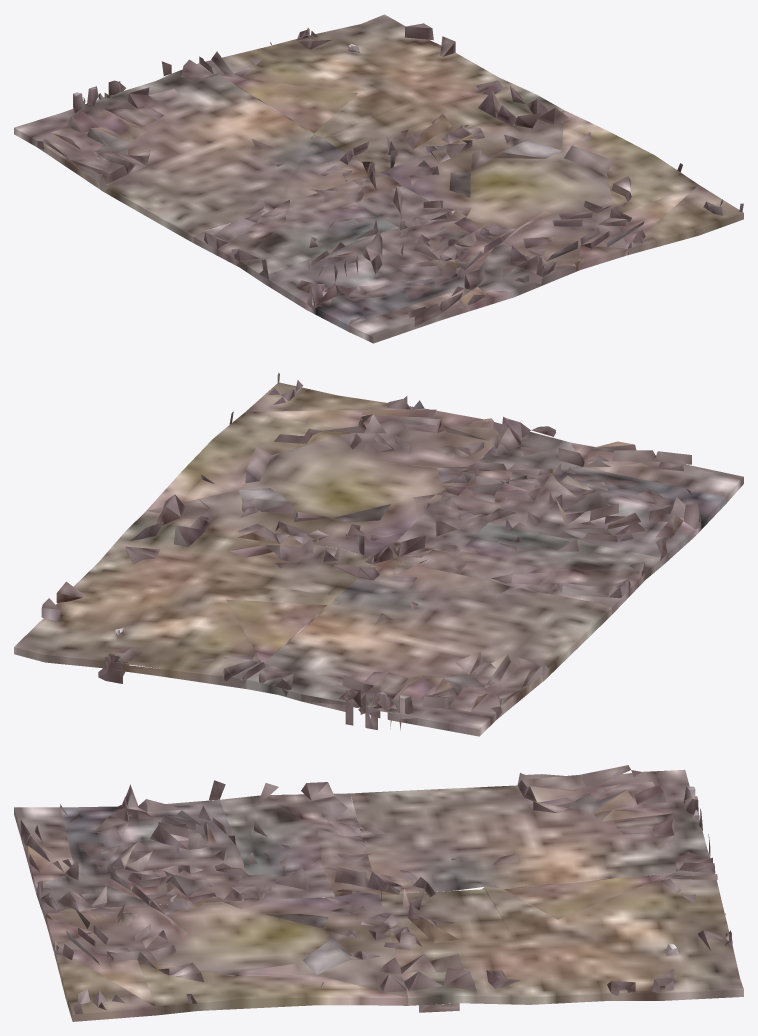
3 renders of one model, top to bottom at view 1: azimuth 30°, elevation 25°; view 2: azimuth 150°, elevation 25°; view 3: azimuth 270°, elevation 25°, orthographic. The views are drawn at different scales.
Visible parts, largest first — view 1: Mesh_0; view 2: Mesh_0; view 3: Mesh_0.
Boxes of the visible parts, x1,y1,x2,y2 form: Mesh_0: (14, 14, 743, 343); Mesh_0: (14, 372, 743, 736); Mesh_0: (14, 765, 743, 1021).
Bounding box in the file's own units: 1065 × 85.77 × 1318.
Materials: 1 (1 with a texture image).
